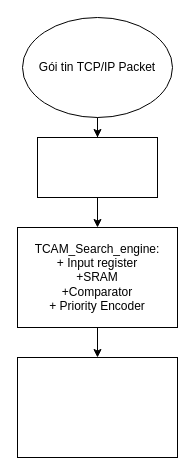
Image size: 195x475. Some labels were removed from this diagram. Each missing label, with the centre of its shape:
Hệ thống Firewall / Router / SmartSwitch: (x=97, y=407)
Packet Parser: + Đọc Packet_Header + Tạo Search_Key: (x=97, y=167)
